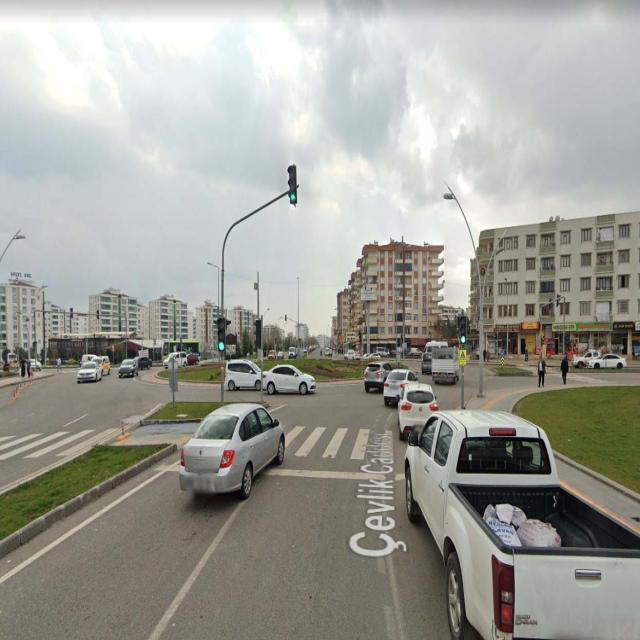ilerisol: (501, 349, 504, 356)
yesil: (288, 168, 296, 202), (218, 319, 225, 351), (460, 317, 465, 343)
